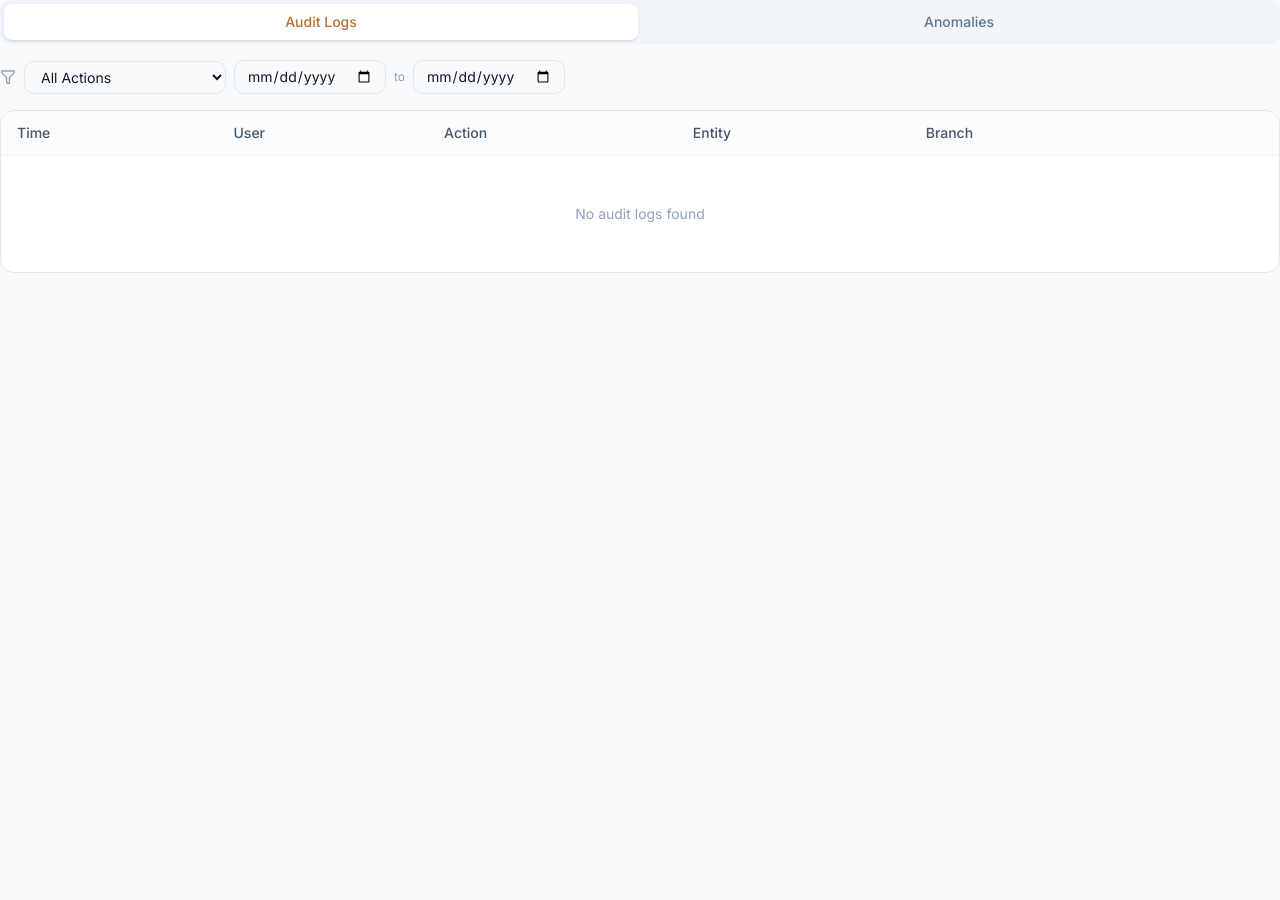
Test case: audit feature › Anomalies tab resolves via PATCH
This screenshot has width=1280, height=900.
Click the button "Anomalies" at (959,22), box [642,4,1276,40]
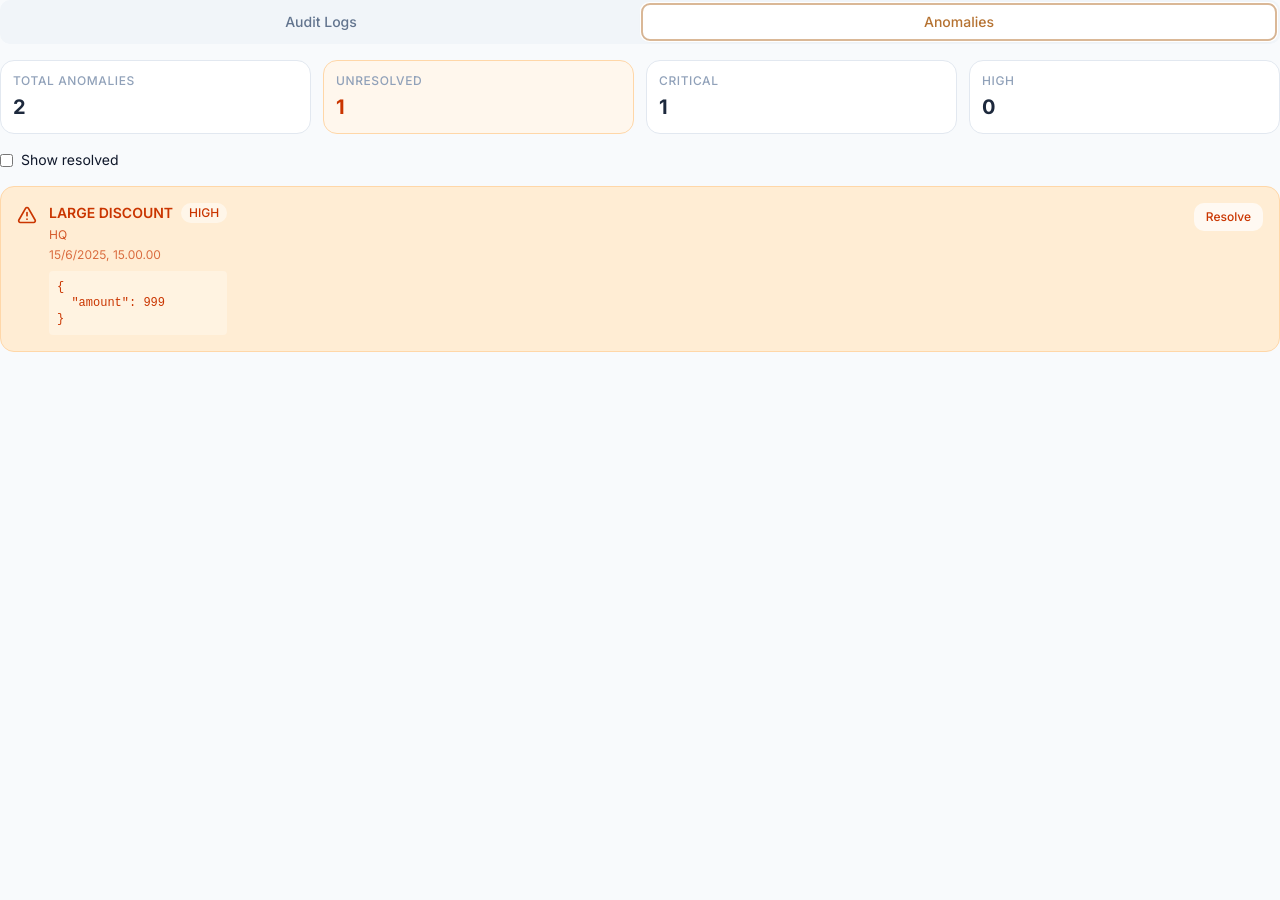
expect the text "LARGE DISCOUNT" is shown: met, box [49,203,173,223]
Click the button "Resolve" at (1228,217), box [1194,203,1263,231]
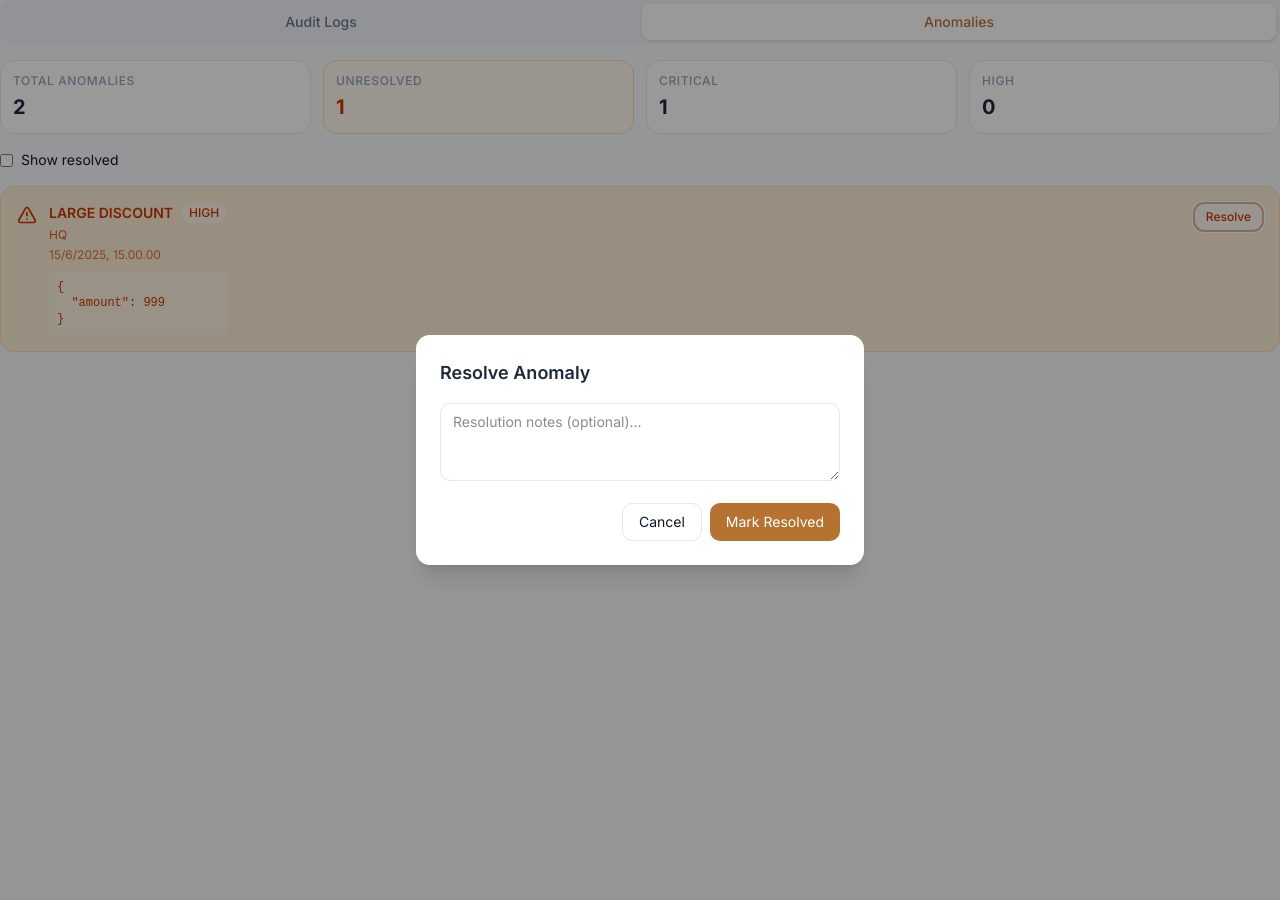
Type "ok" into the text box with placeholder "Resolution notes (optional)..." at (640,442), box [440,403,840,481]
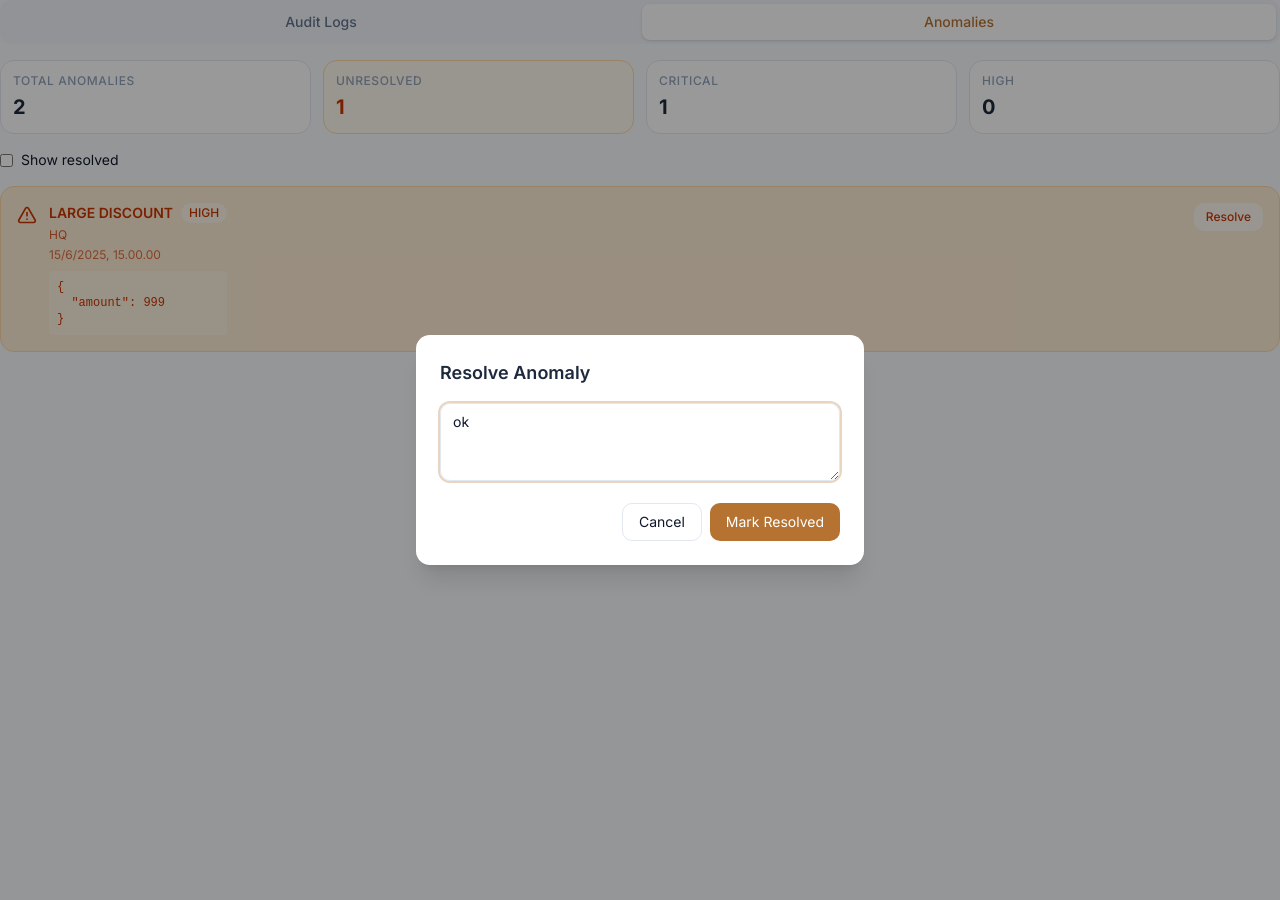
Click the button "Mark Resolved" at (775,522), box [710,503,840,541]
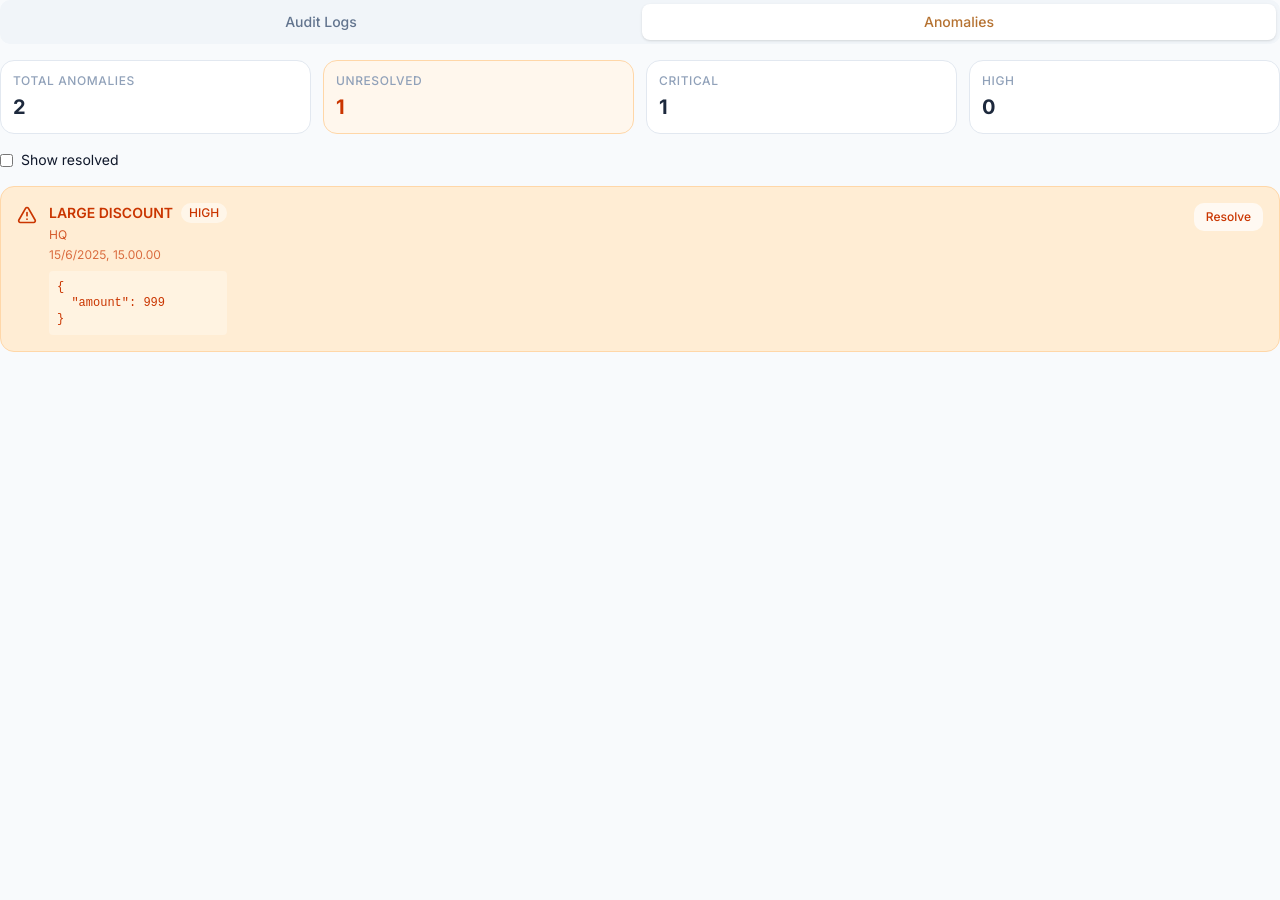
expect the heading "Resolve Anomaly" is gone: met
